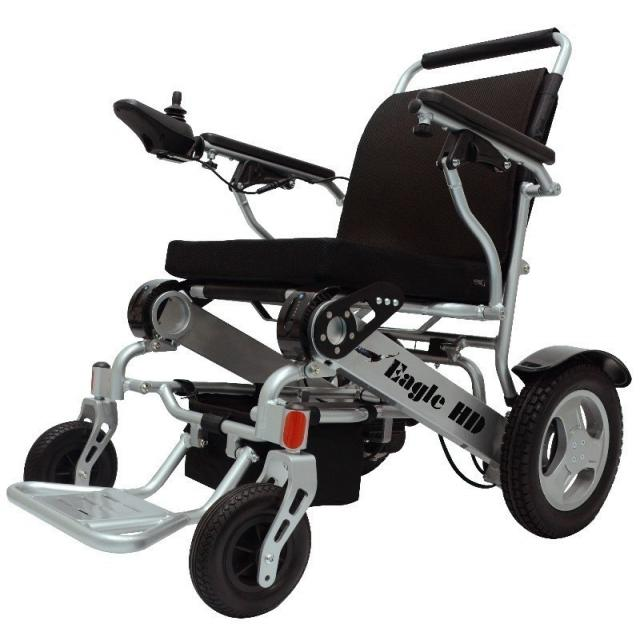wheelchair: (5, 17, 639, 631)
